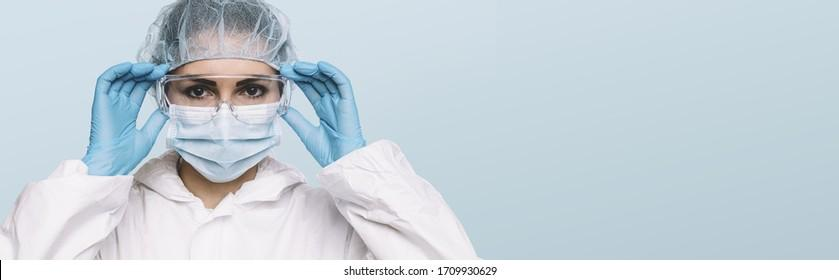gloves: (83, 61, 171, 180), (275, 60, 367, 168)
